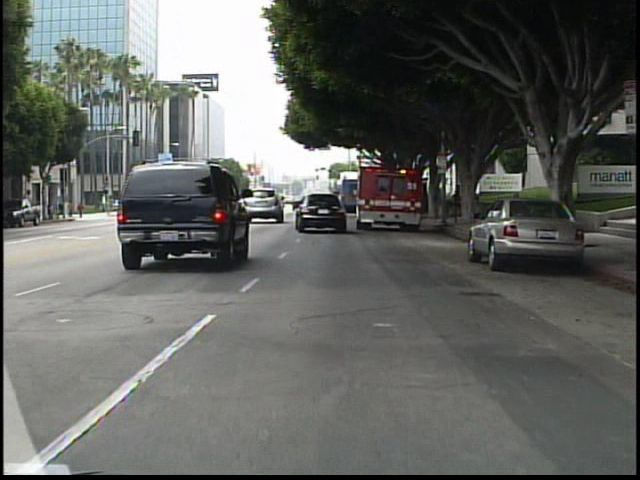person: (452, 187, 465, 222), (75, 198, 88, 222), (66, 198, 77, 222)
